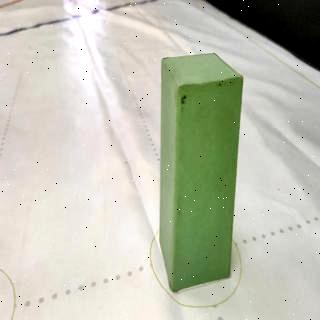greenbox: (158, 50, 244, 292)
